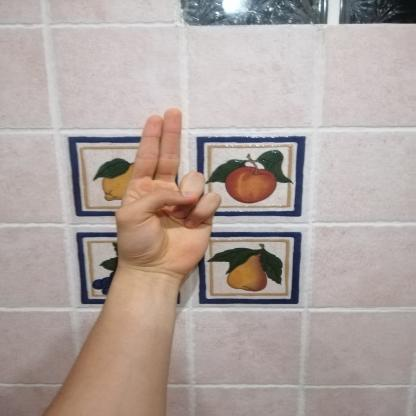TA: (102, 98, 232, 283)
